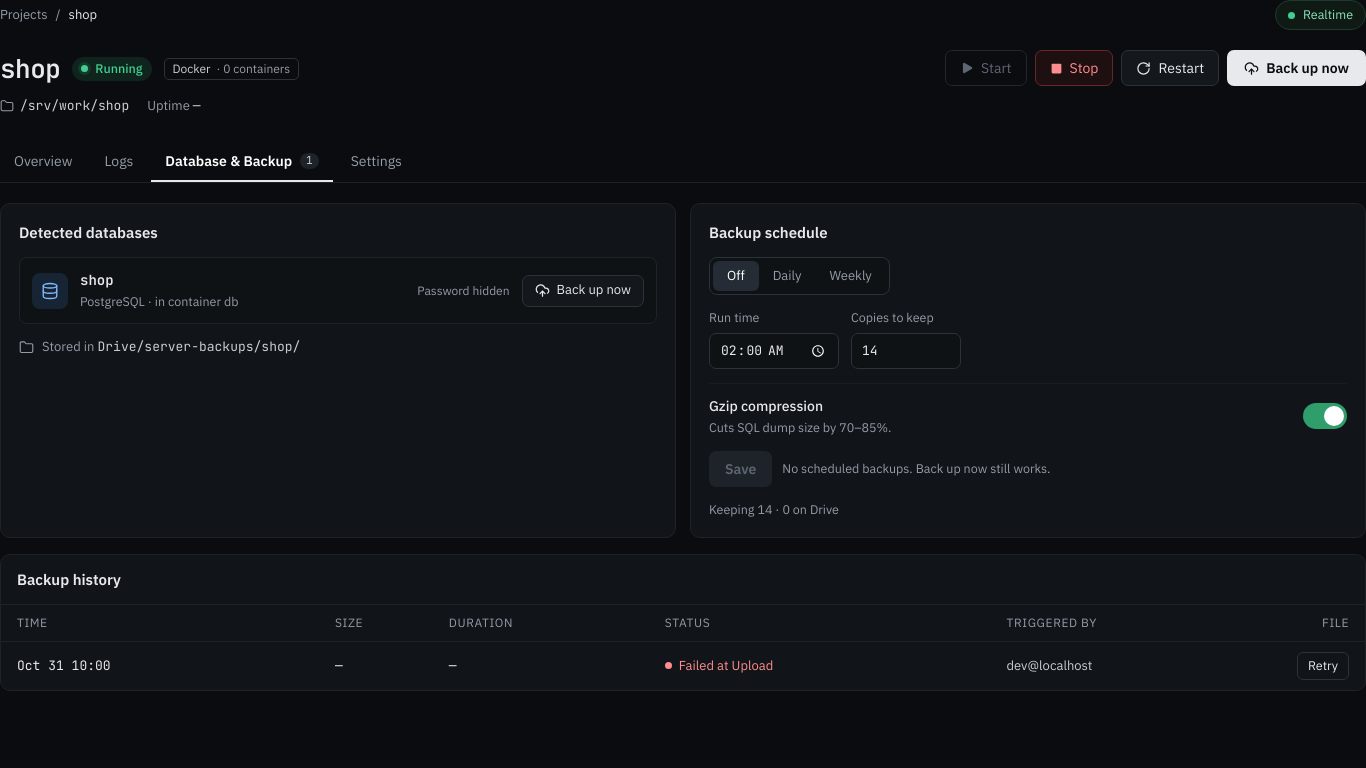
backup history › retries a failed backup and opens the new one
What coordinates should you click on to do the following:
click the button "Retry"
I would click on:
 (1323, 666)
Its box is [1297, 652, 1349, 680].
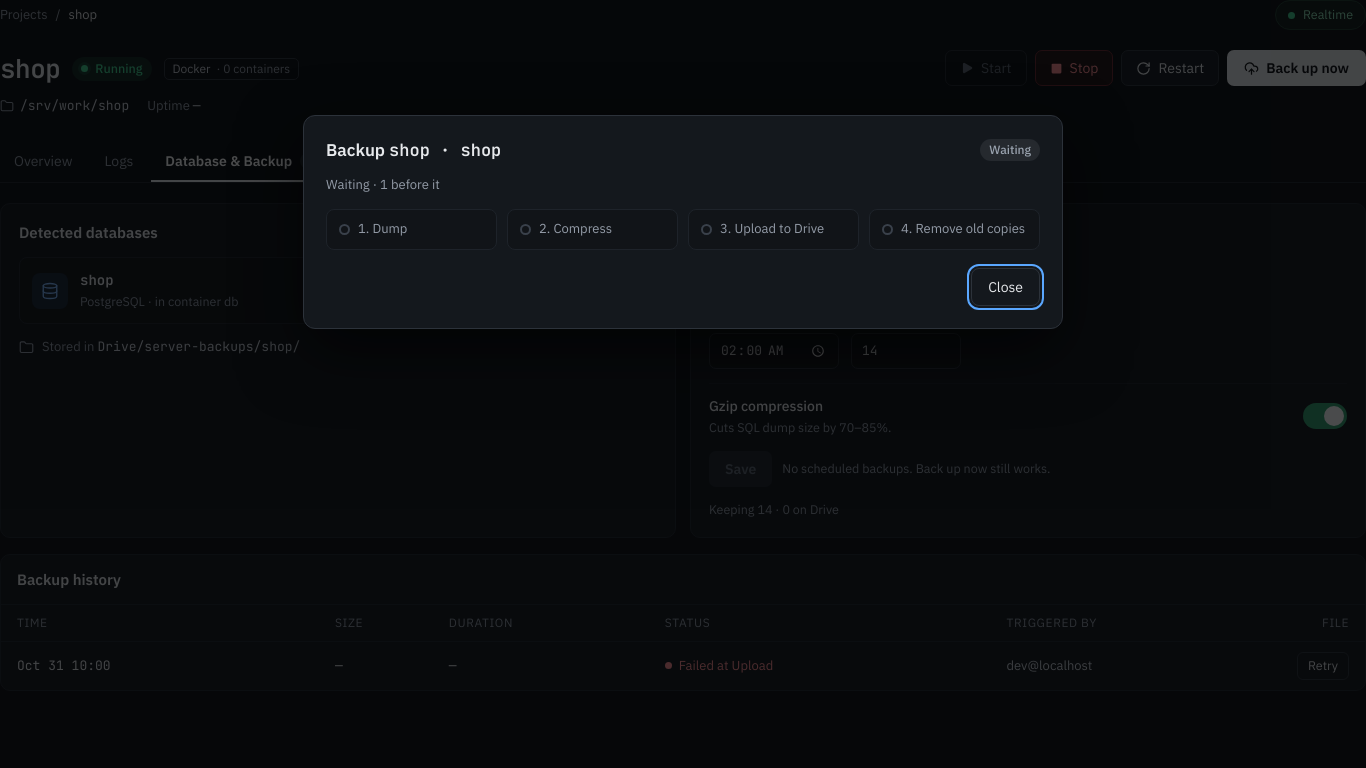
expect the dialog "Backup shop · shop" is shown: met, box [303, 115, 1063, 329]
